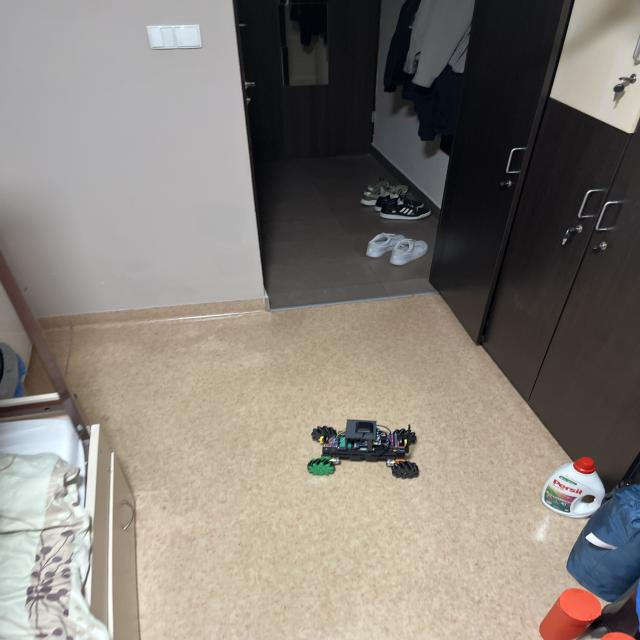robot: (307, 419, 419, 479)
